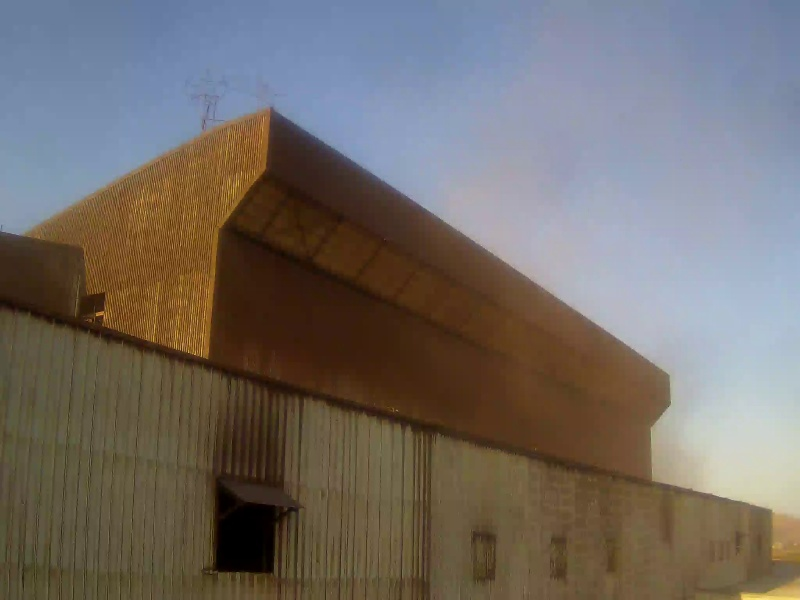bom: (1, 2, 266, 215), (169, 1, 435, 213)
ruim: (455, 53, 709, 478)
